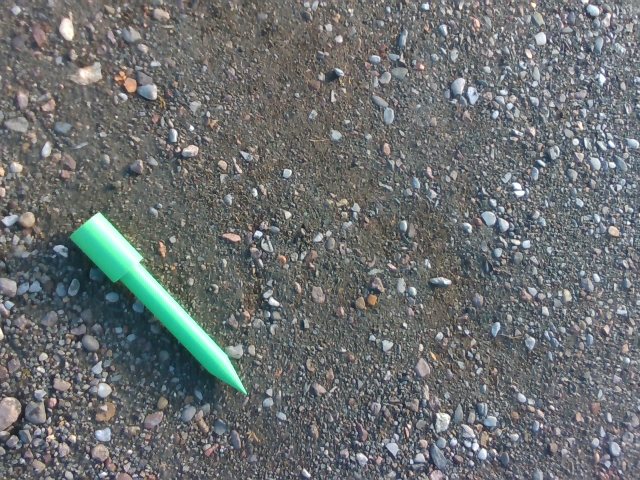Probe: (62, 206, 251, 405)
